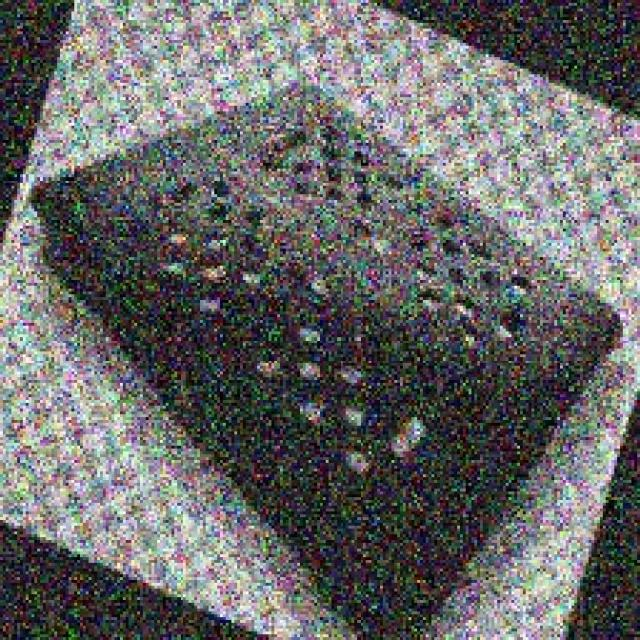igps: (20, 69, 629, 640)
